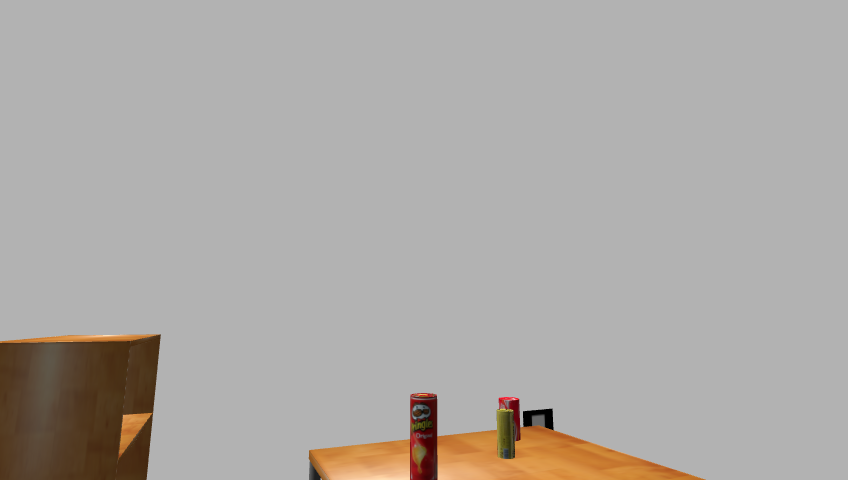aruco marker: (522, 408, 557, 434)
biscuits pack: (496, 408, 515, 460)
bookshelf: (0, 333, 168, 480)
coke can: (497, 396, 522, 442)
dinner table: (297, 424, 729, 480)
pringles can: (408, 393, 440, 480)
